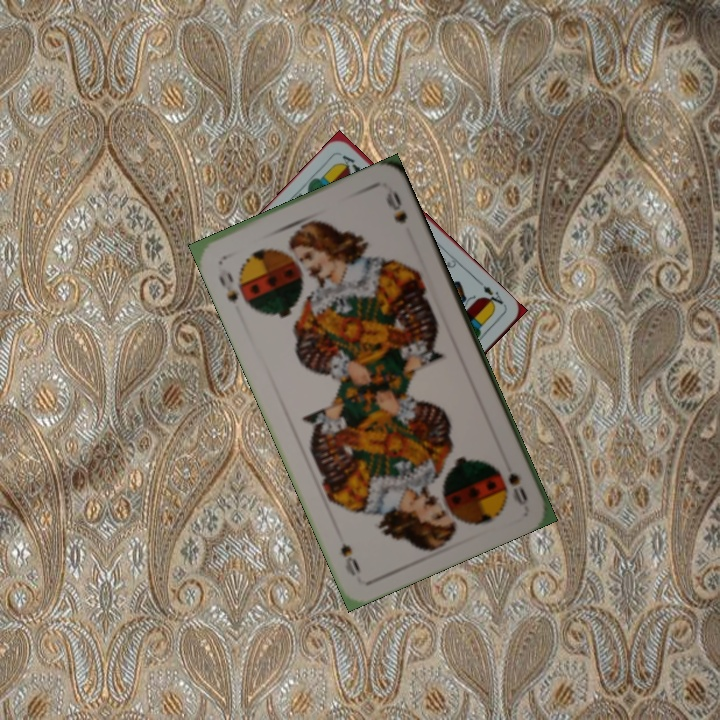EA: (475, 278, 508, 311)
SO: (214, 268, 241, 307), (504, 468, 530, 508)
